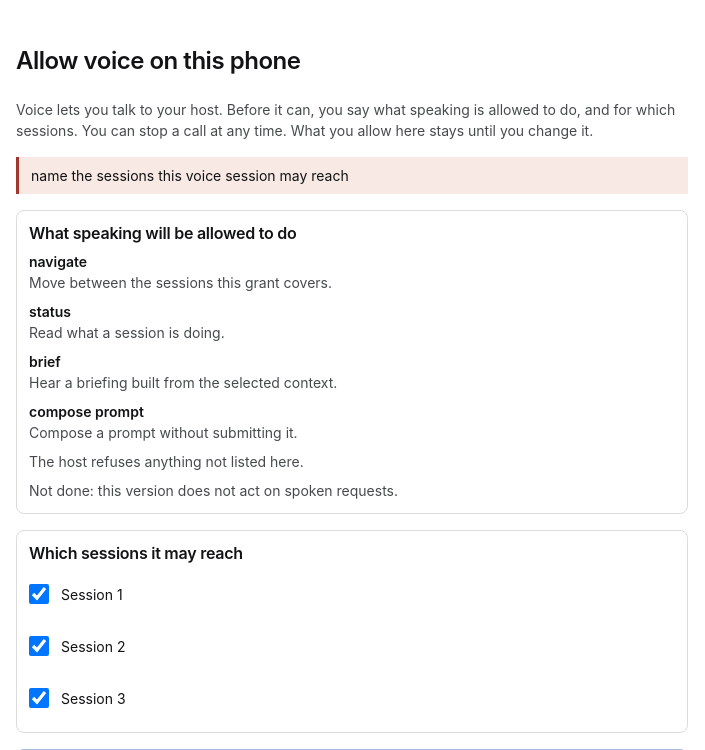
Test: allowing voice for the first time › allows nothing until a session is chosen
Click the checkbox labelled "Session 1": (39, 594) [29,584,49,604]
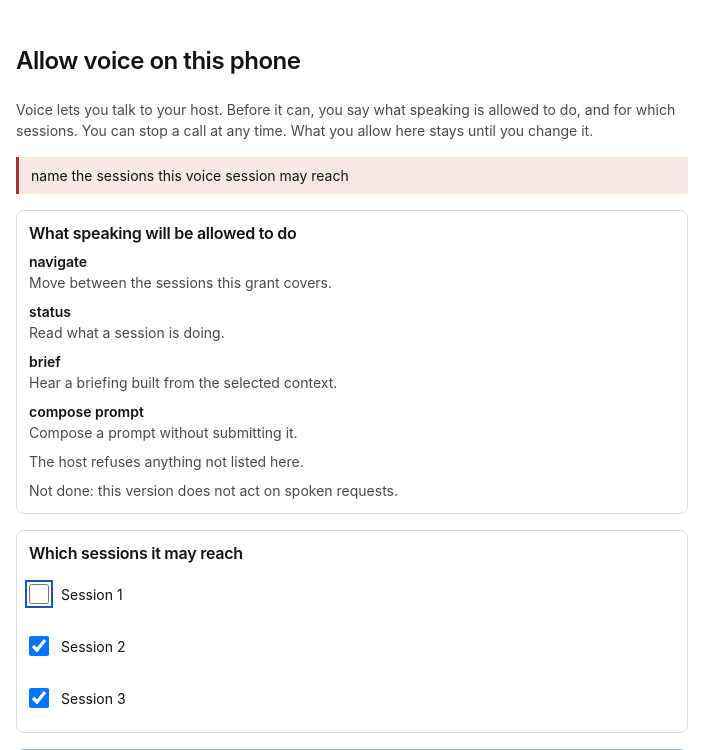
Click the checkbox labelled "Session 2": (39, 646) [29,636,49,656]
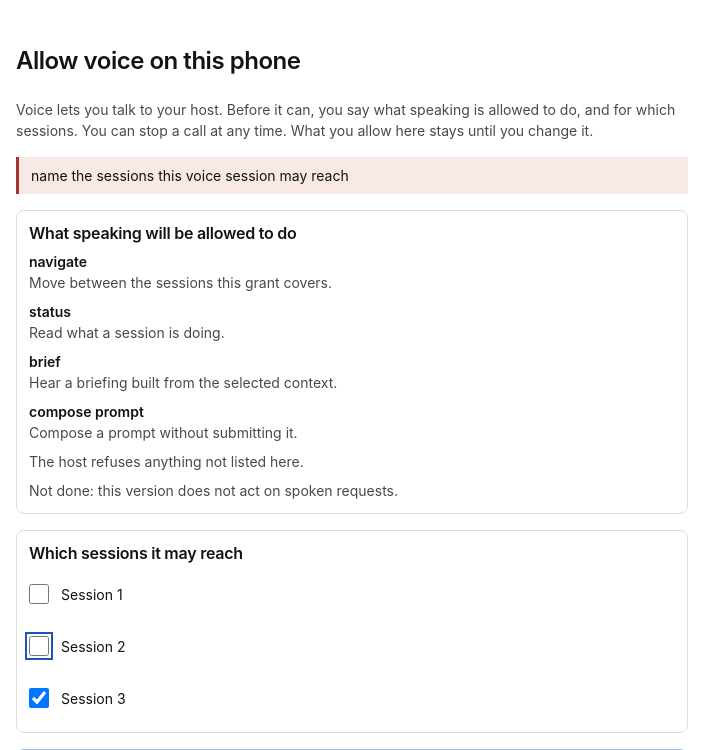
Click the checkbox labelled "Session 3": (39, 698) [29,688,49,708]
(page scrolled)
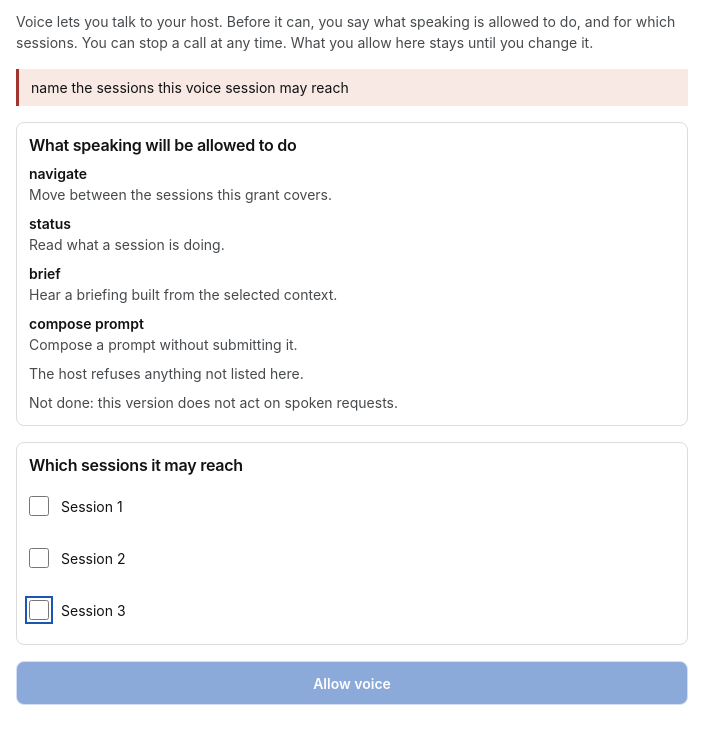
Expected: the button with test id "voice-allow" is disabled, [16,661,688,705]
